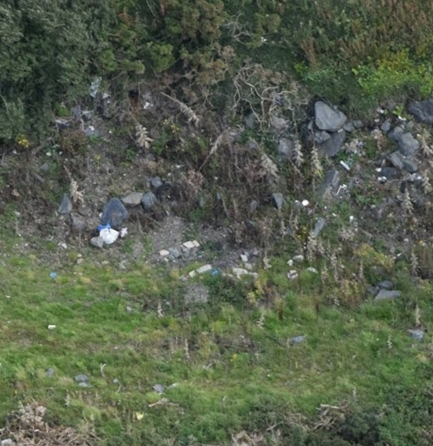scattered_barrel: (155, 230, 269, 288)
white_in_green: (73, 210, 138, 259)
